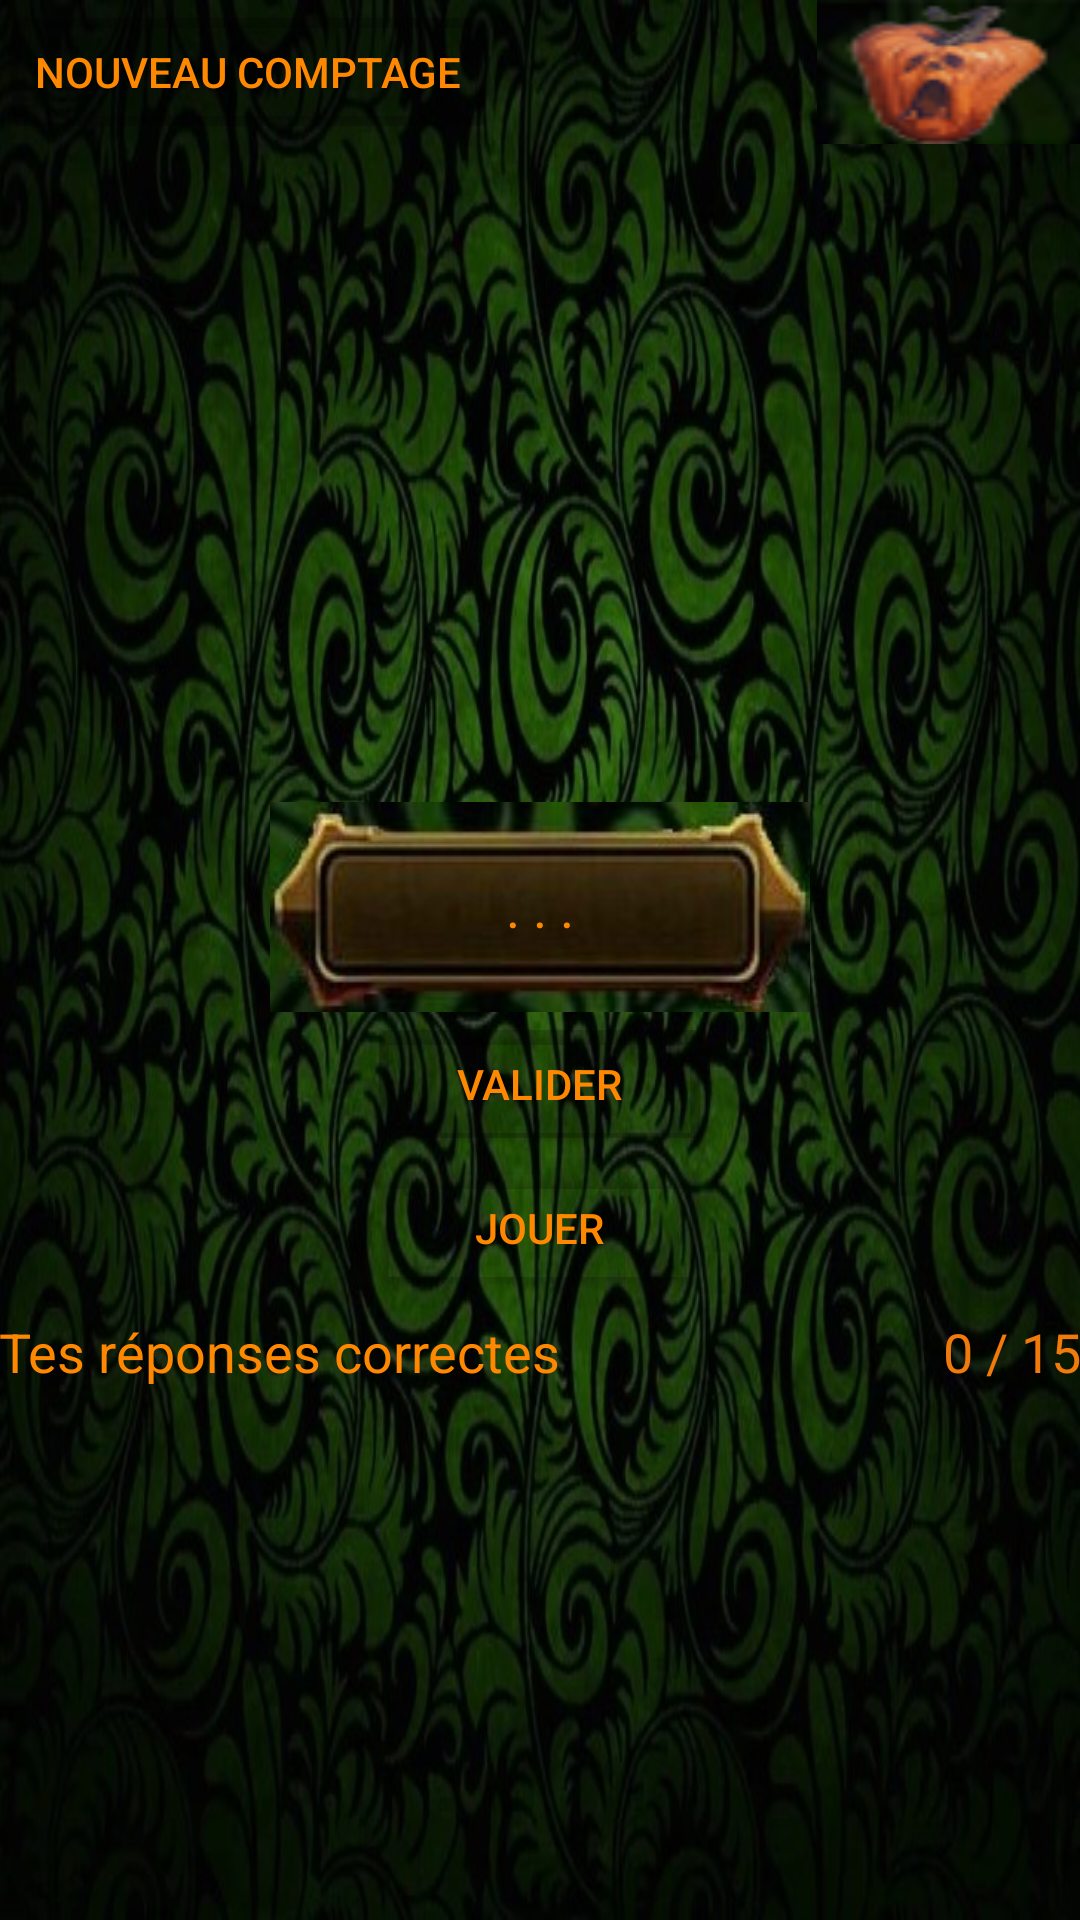

Where to tap for icons on this 1080×1920 app screen, as [x,y]:
pum: [948,72]
